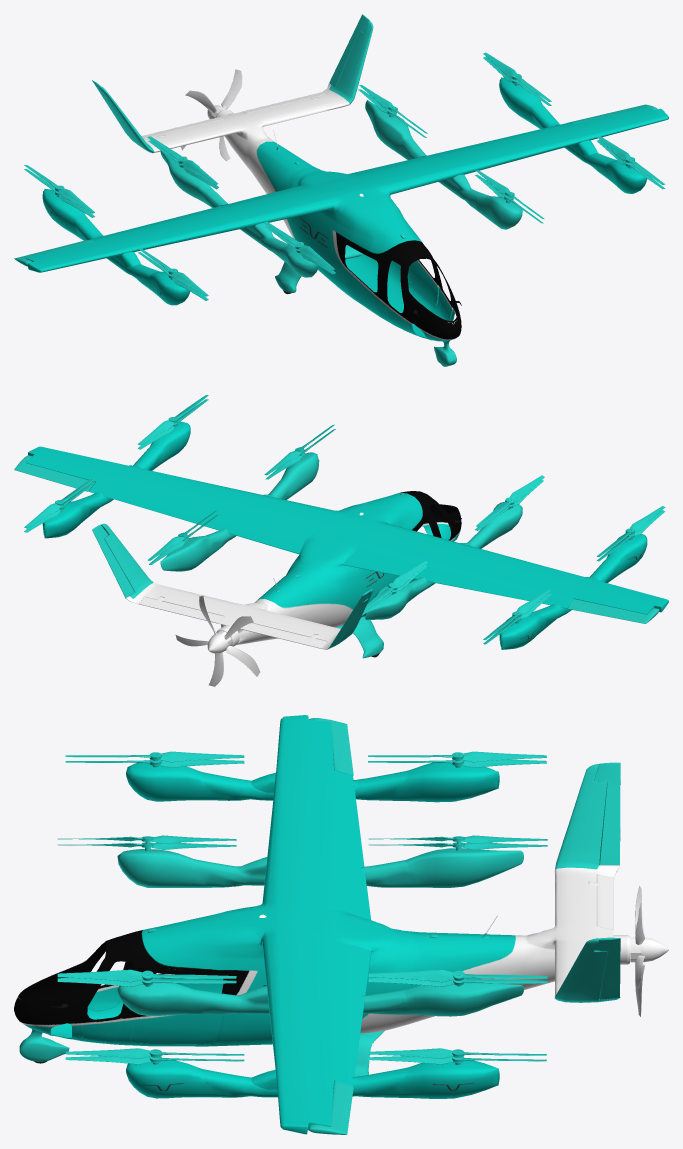
The model's file is Cesium_Air_split.glb.
The picture shows the model from 3 angles, top to bottom: view 1: azimuth 30°, elevation 25°; view 2: azimuth 150°, elevation 25°; view 3: azimuth 270°, elevation 25°; orthographic projection. The views are drawn at different scales.
Visible parts, largest first — view 1: Fuselagem, Bk.Propeller, Trem de pouso, Propeller_5, Propeller_6, Propeller_7, Propeller_4, Propeller_3, Propeller_0, Propeller_2, Propeller_1; view 2: Fuselagem, Bk.Propeller, Trem de pouso, Propeller_6, Propeller_0, Propeller_3, Propeller_4, Propeller_7, Propeller_5, Propeller_2, Propeller_1; view 3: Fuselagem, Propeller_2, Propeller_1, Bk.Propeller, Trem de pouso, Propeller_3, Propeller_0, Propeller_7, Propeller_4, Propeller_6, Propeller_5.
Boxes of the visible parts, left/top/right/bottom form: Fuselagem: left=14, top=14, right=668, bottom=341; Bk.Propeller: left=181, top=69, right=242, bottom=161; Trem de pouso: left=275, top=245, right=456, bottom=366; Propeller_5: left=147, top=136, right=218, bottom=189; Propeller_6: left=264, top=221, right=335, bottom=274; Propeller_7: left=137, top=248, right=208, bottom=300; Propeller_4: left=24, top=165, right=94, bottom=217; Propeller_3: left=596, top=135, right=665, bottom=189; Propeller_0: left=483, top=52, right=551, bottom=105; Propeller_2: left=475, top=170, right=544, bottom=223; Propeller_1: left=358, top=85, right=427, bottom=137; Fuselagem: left=14, top=421, right=668, bottom=649; Bk.Propeller: left=175, top=595, right=260, bottom=686; Trem de pouso: left=337, top=616, right=383, bottom=658; Propeller_6: left=475, top=475, right=544, bottom=530; Propeller_0: left=24, top=478, right=94, bottom=532; Propeller_3: left=137, top=395, right=208, bottom=449; Propeller_4: left=483, top=589, right=551, bottom=644; Propeller_7: left=596, top=506, right=665, bottom=561; Propeller_5: left=362, top=560, right=427, bottom=615; Propeller_2: left=264, top=424, right=335, bottom=479; Propeller_1: left=147, top=510, right=218, bottom=564; Fuselagem: left=14, top=715, right=620, bottom=1134; Propeller_2: left=57, top=969, right=236, bottom=986; Propeller_1: left=368, top=969, right=547, bottom=986; Bk.Propeller: left=613, top=886, right=668, bottom=1016; Trem de pouso: left=19, top=1029, right=384, bottom=1076; Propeller_3: left=65, top=1048, right=244, bottom=1064; Propeller_0: left=368, top=1048, right=546, bottom=1065; Propeller_7: left=65, top=751, right=244, bottom=767; Propeller_4: left=368, top=751, right=546, bottom=767; Propeller_6: left=58, top=835, right=236, bottom=851; Propeller_5: left=369, top=835, right=547, bottom=850.
Size of what is drawn, in the model's own units: 145 by 34.79 by 97.27.
Materials: 8 (1 with a texture image).
